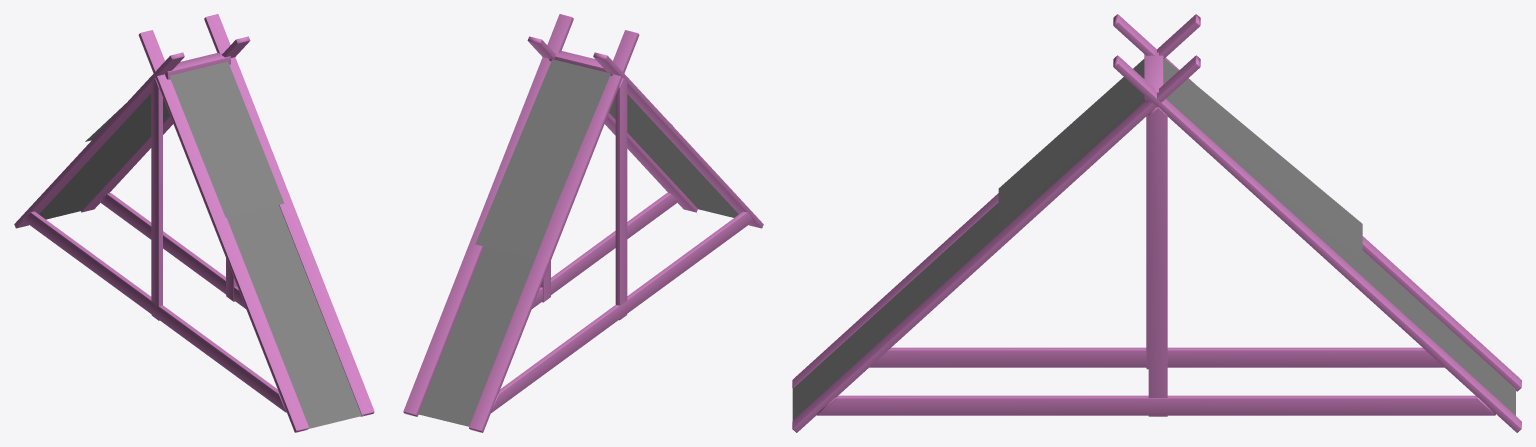
Rendered from Roof.fbx.
3 views of the same model, side by side, from view 1: azimuth 30°, elevation 25°; view 2: azimuth 150°, elevation 25°; view 3: azimuth 270°, elevation 25° (orthographic). The views are drawn at different scales.
Parts seen in each view (by area): view 1: Object, Roof; view 2: Roof, Object; view 3: Roof, Object.
Boxes of the visible parts, x1,y1,x2,y2 form: Object: (39,61,363,429); Roof: (14,14,374,432); Roof: (403,14,763,432); Object: (418,59,738,426); Roof: (792,14,1521,432); Object: (792,58,1515,420).
Size of the model in its own units: 41.25 by 140 by 251.
